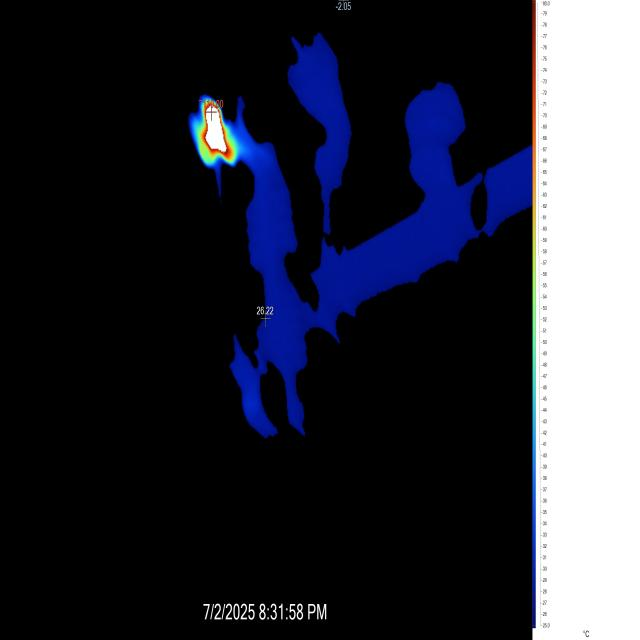Transformer: (183, 18, 533, 472)
